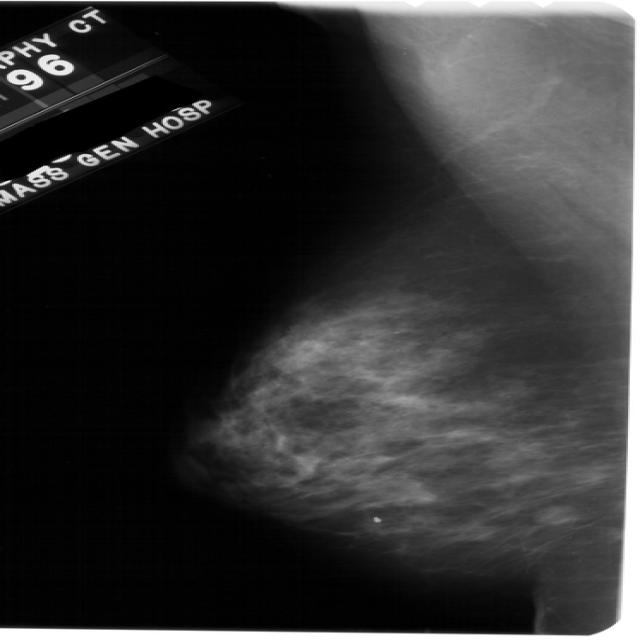tumour: (528, 504, 575, 525)
